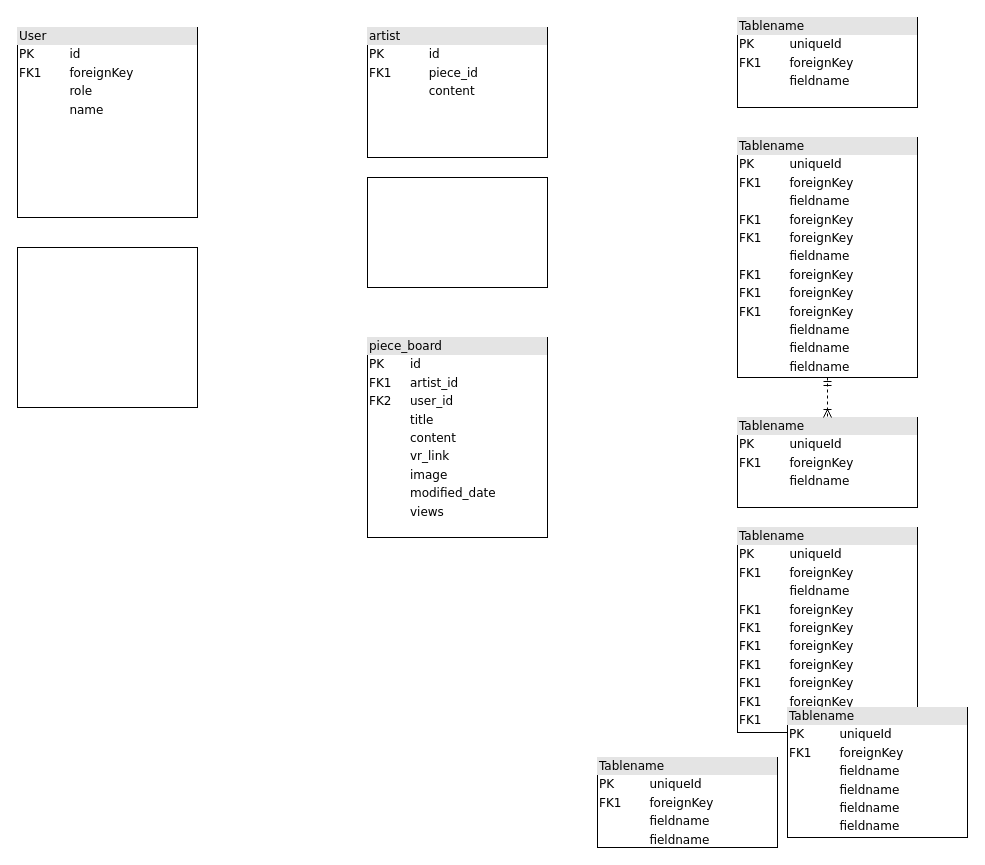
The diagram is 985 pixels wide and 865 high, and some of its shapes have lost their labels. The centre of each missing label's shape, as x and y in pixels:
artist_board PK id FK1 user_id title content FK1 foreignKey: the point at 457,232
inquiry_board PK id FK1 user_id email title content image state modified_date: the point at 107,327
